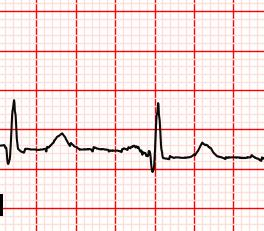Pathological Q Wave: (145, 143, 159, 175), (2, 139, 14, 168)
